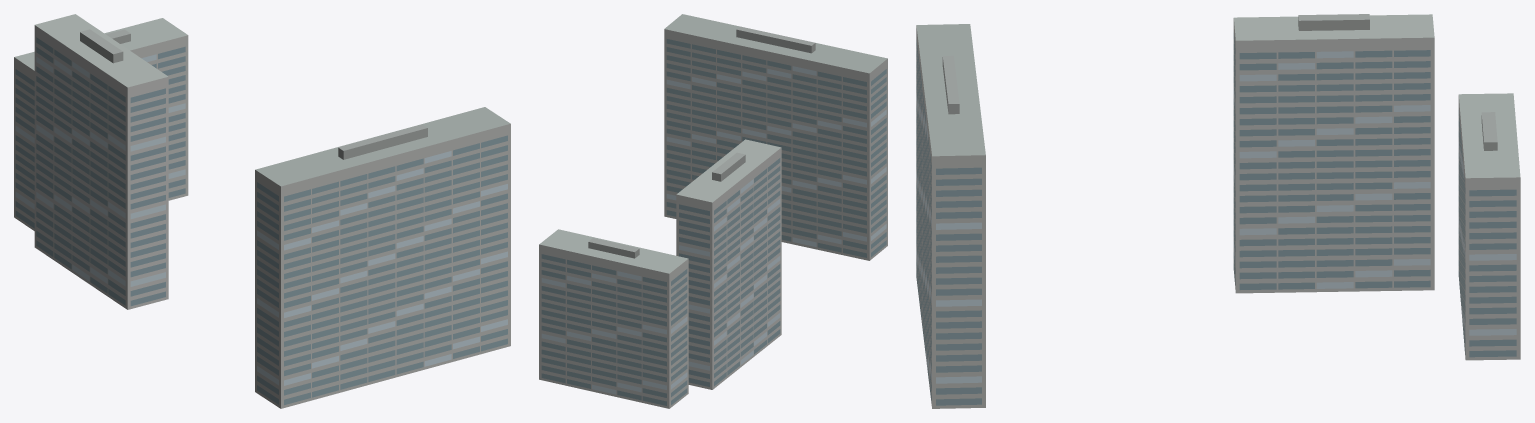
Rendered from apt-a13302203.glb.
3 views of the same model, side by side, from view 1: azimuth 30°, elevation 25°; view 2: azimuth 150°, elevation 25°; view 3: azimuth 270°, elevation 25° (orthographic). The views are drawn at different scales.
Visible parts, largest first — view 1: apt-a13302203; view 2: apt-a13302203; view 3: apt-a13302203.
Part boxes in pixels (x1=…): apt-a13302203: x1=14, y1=14, x2=510, y2=408; apt-a13302203: x1=539, y1=14, x2=887, y2=408; apt-a13302203: x1=916, y1=14, x2=1520, y2=408.
Size of the model in its own units: 71.79 by 62 by 129.
